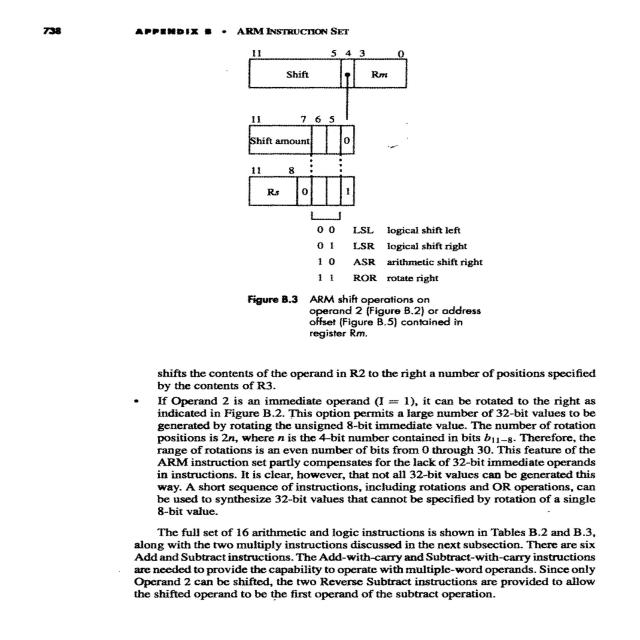diagram: (122, 40, 598, 350)
